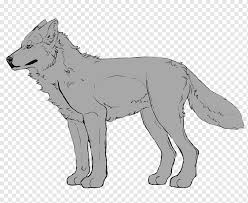Lobo: (3, 11, 245, 191)
